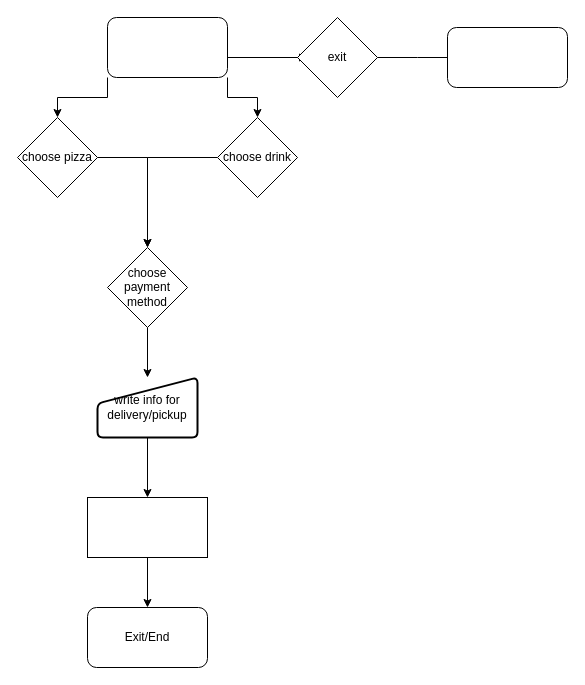
Image size: 585x685. Some labels were removed from this diagram. Each missing label, with the centre of its shape:
"confirm order" belongs at point 147,527.
"end" belongs at point 507,57.
"start" belongs at point 167,47.
